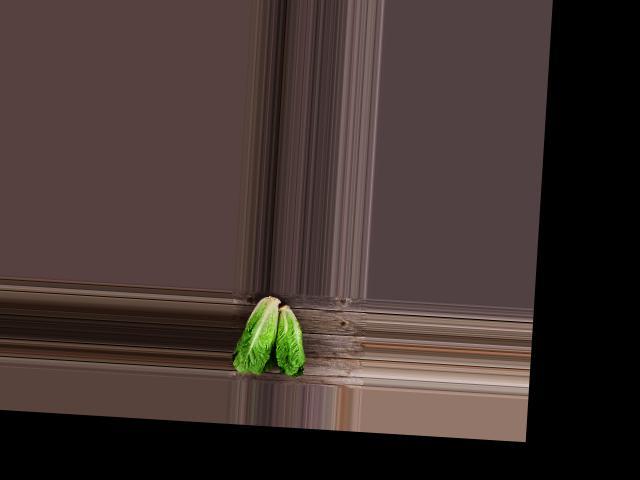lettuce: (229, 290, 281, 378)
